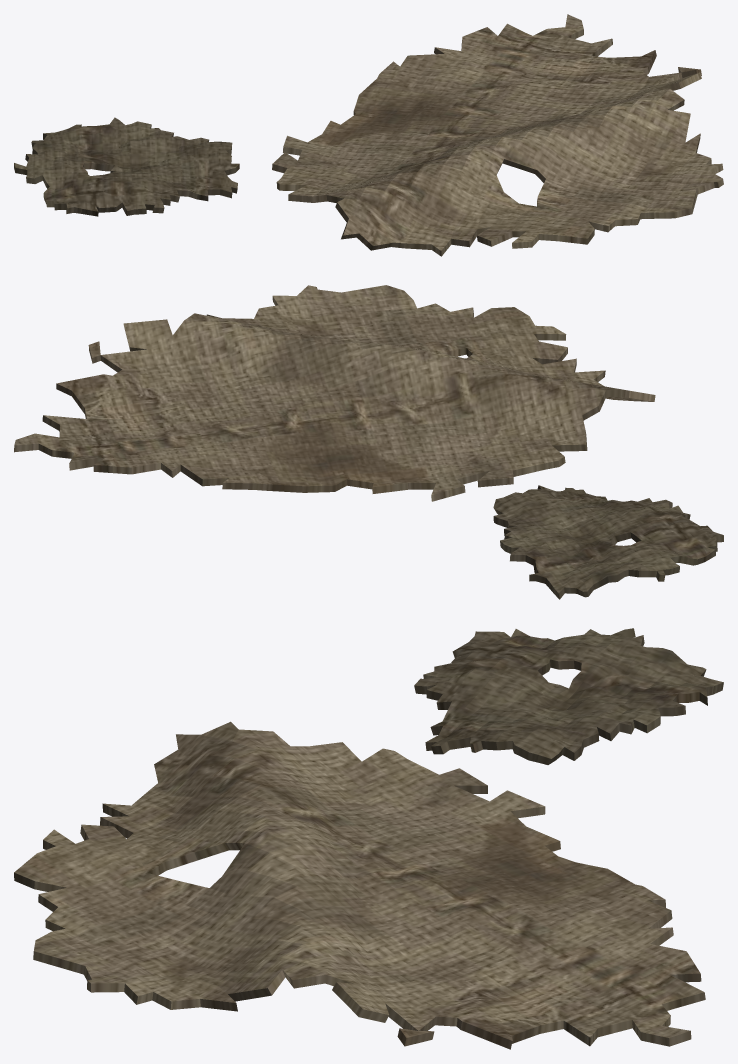
File: junk_rags_f.glb
The picture shows the model from 3 angles, top to bottom: view 1: azimuth 30°, elevation 25°; view 2: azimuth 150°, elevation 25°; view 3: azimuth 270°, elevation 25°; orthographic projection. The views are drawn at different scales.
Parts seen in each view (by area): view 1: model; view 2: model; view 3: model.
Part boxes in pixels (<box>): model: <box>14,14,723,256</box>; model: <box>14,285,723,599</box>; model: <box>14,628,723,1049</box>.
Bounding box in the file's own units: 0.6425 × 0.0428 × 0.4555.
2 materials, 2 textured.
